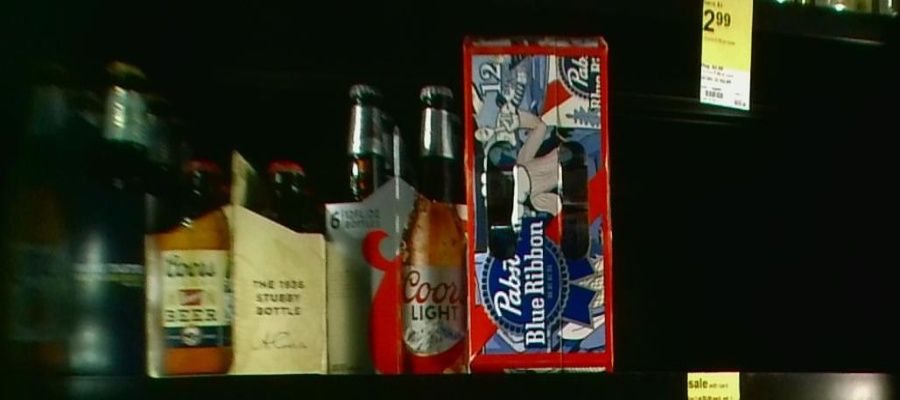bottle: (464, 35, 615, 377), (146, 147, 327, 375), (331, 81, 465, 372), (74, 59, 149, 376), (1, 61, 69, 372)
